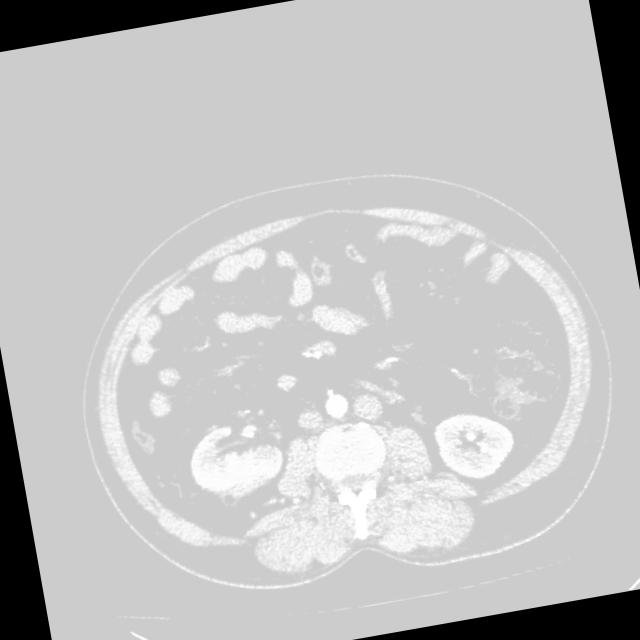TUMOR: (113, 276, 543, 529)
